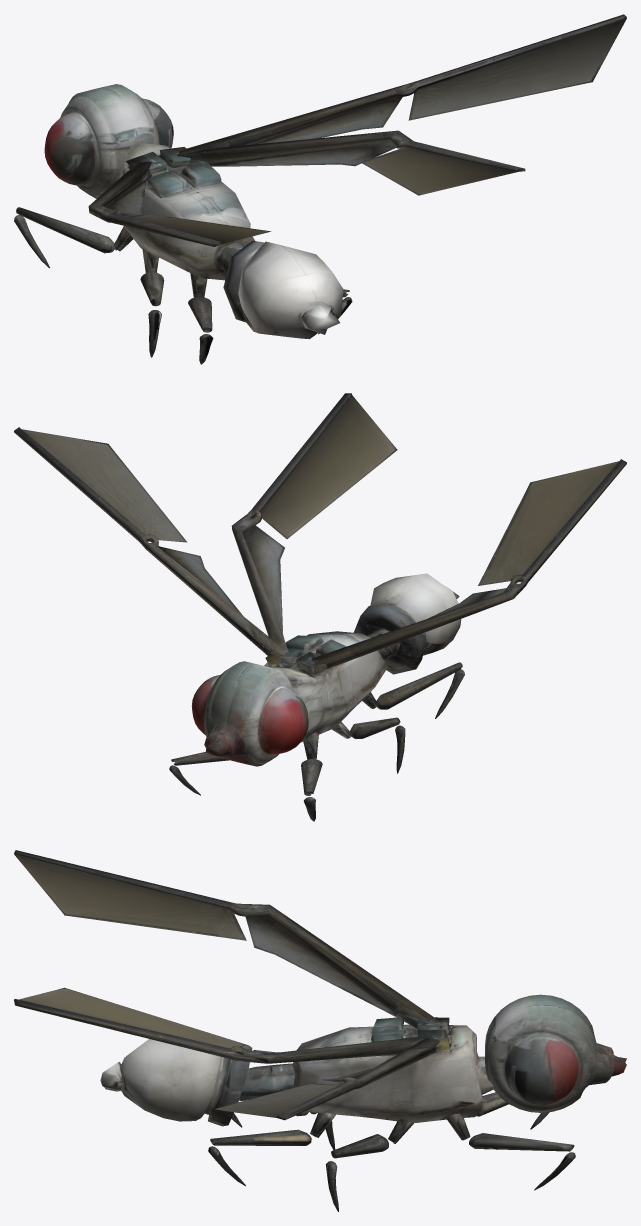
The model's file is mosquito.glb.
3 views of the same model, one above another, from view 1: azimuth 30°, elevation 25°; view 2: azimuth 150°, elevation 25°; view 3: azimuth 270°, elevation 25° (orthographic). The views are drawn at different scales.
Parts seen in each view (by area): view 1: Mosquito; view 2: Mosquito; view 3: Mosquito.
Part boxes in pixels (x1,y1,x2,y2): Mosquito: (14,14,626,364); Mosquito: (14,393,626,821); Mosquito: (14,850,626,1211).
Size of the model in its own units: 2 by 0.8886 by 1.93.
1 material, 1 textured.
